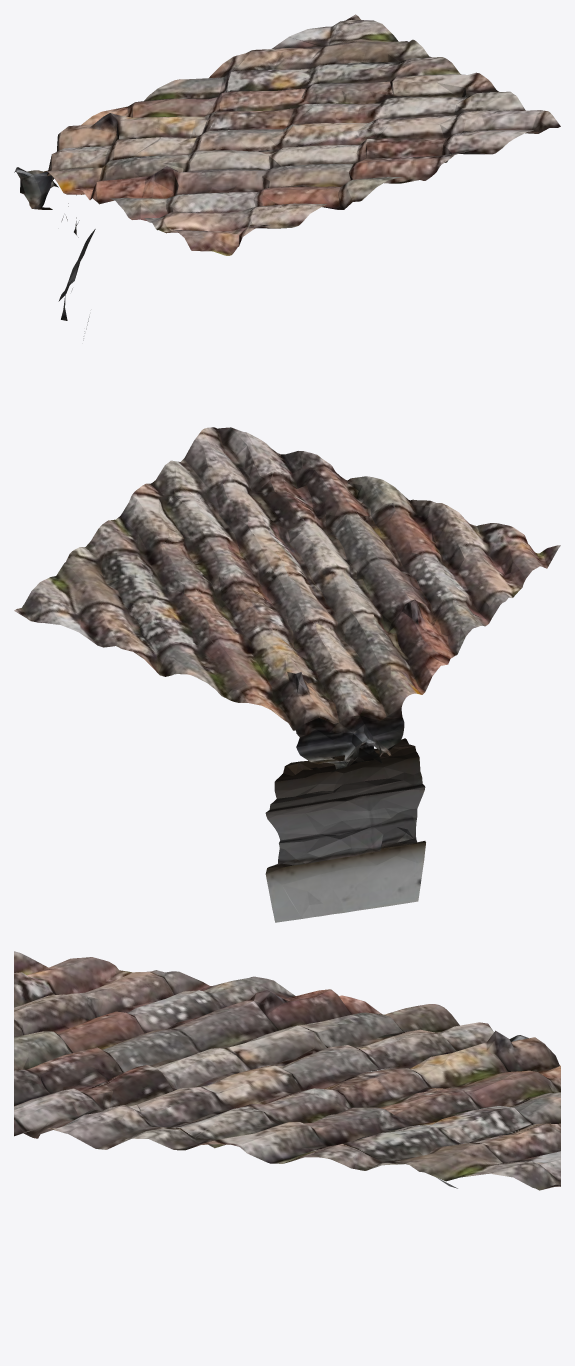
3 views of the same model, one above another, from view 1: azimuth 30°, elevation 25°; view 2: azimuth 150°, elevation 25°; view 3: azimuth 270°, elevation 25° (orthographic). The views are drawn at different scales.
Size of the model in its own units: 1.67 by 1.34 by 1.67.
3 materials, 3 textured.
